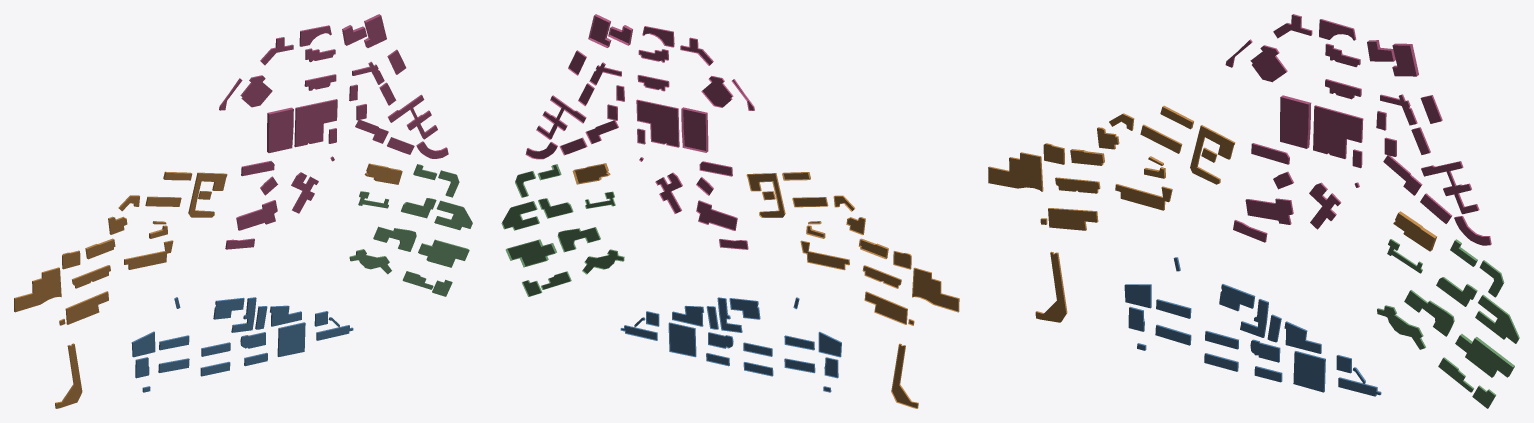
Rendered from buildings_k14.obj.
3 views of the same model, side by side, from view 1: azimuth 30°, elevation 25°; view 2: azimuth 150°, elevation 25°; view 3: azimuth 330°, elevation 25° (orthographic). The views are drawn at different scales.
Parts seen in each view (by area): view 1: roof1, roof2, roof4, roof3, zone1, zone2, zone4, zone3; view 2: roof1, roof2, roof4, zone1, roof3, zone2, zone4, zone3; view 3: roof1, roof2, roof4, roof3, zone1, zone2, zone4, zone3.
Part boxes in pixels (x1=…): roof1: x1=220, y1=16, x2=448, y2=249; roof2: x1=15, y1=165, x2=402, y2=408; roof4: x1=133, y1=298, x2=353, y2=392; roof3: x1=350, y1=165, x2=472, y2=296; zone1: x1=219, y1=14, x2=446, y2=248; zone2: x1=14, y1=163, x2=401, y2=408; zone4: x1=131, y1=297, x2=352, y2=392; zone3: x1=349, y1=164, x2=468, y2=292; roof1: x1=526, y1=16, x2=753, y2=248; roof2: x1=575, y1=164, x2=958, y2=407; roof4: x1=621, y1=298, x2=840, y2=391; zone1: x1=525, y1=14, x2=754, y2=249; roof3: x1=502, y1=165, x2=623, y2=296; zone2: x1=572, y1=163, x2=959, y2=408; zone4: x1=620, y1=297, x2=841, y2=392; zone3: x1=501, y1=164, x2=624, y2=296; roof1: x1=1225, y1=15, x2=1490, y2=245; roof2: x1=988, y1=107, x2=1434, y2=322; roof4: x1=1124, y1=258, x2=1380, y2=396; roof3: x1=1377, y1=239, x2=1518, y2=408; zone1: x1=1232, y1=14, x2=1491, y2=244; zone2: x1=988, y1=105, x2=1436, y2=322; zone4: x1=1125, y1=257, x2=1381, y2=396; zone3: x1=1377, y1=239, x2=1519, y2=408.
Bounding box in the file's own units: 1083 × 729 × 8.5.
